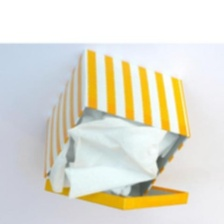book: (37, 44, 196, 216)
tissue: (59, 111, 171, 203)
